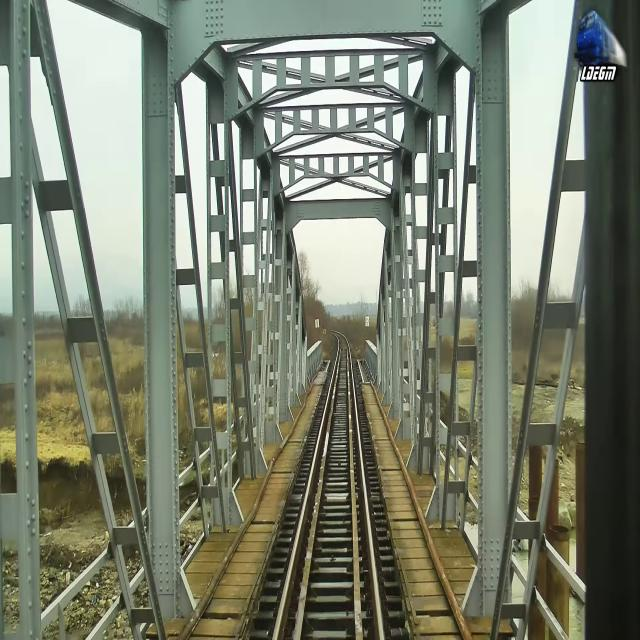rail-track: (300, 335, 356, 639), (277, 379, 334, 639), (350, 373, 379, 639)
